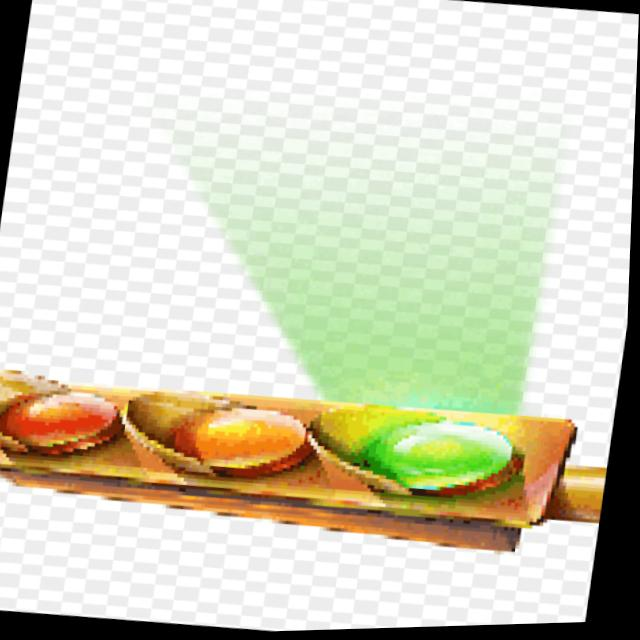green_light: (0, 202, 634, 640), (308, 314, 567, 553)
red_light: (0, 334, 145, 483)
